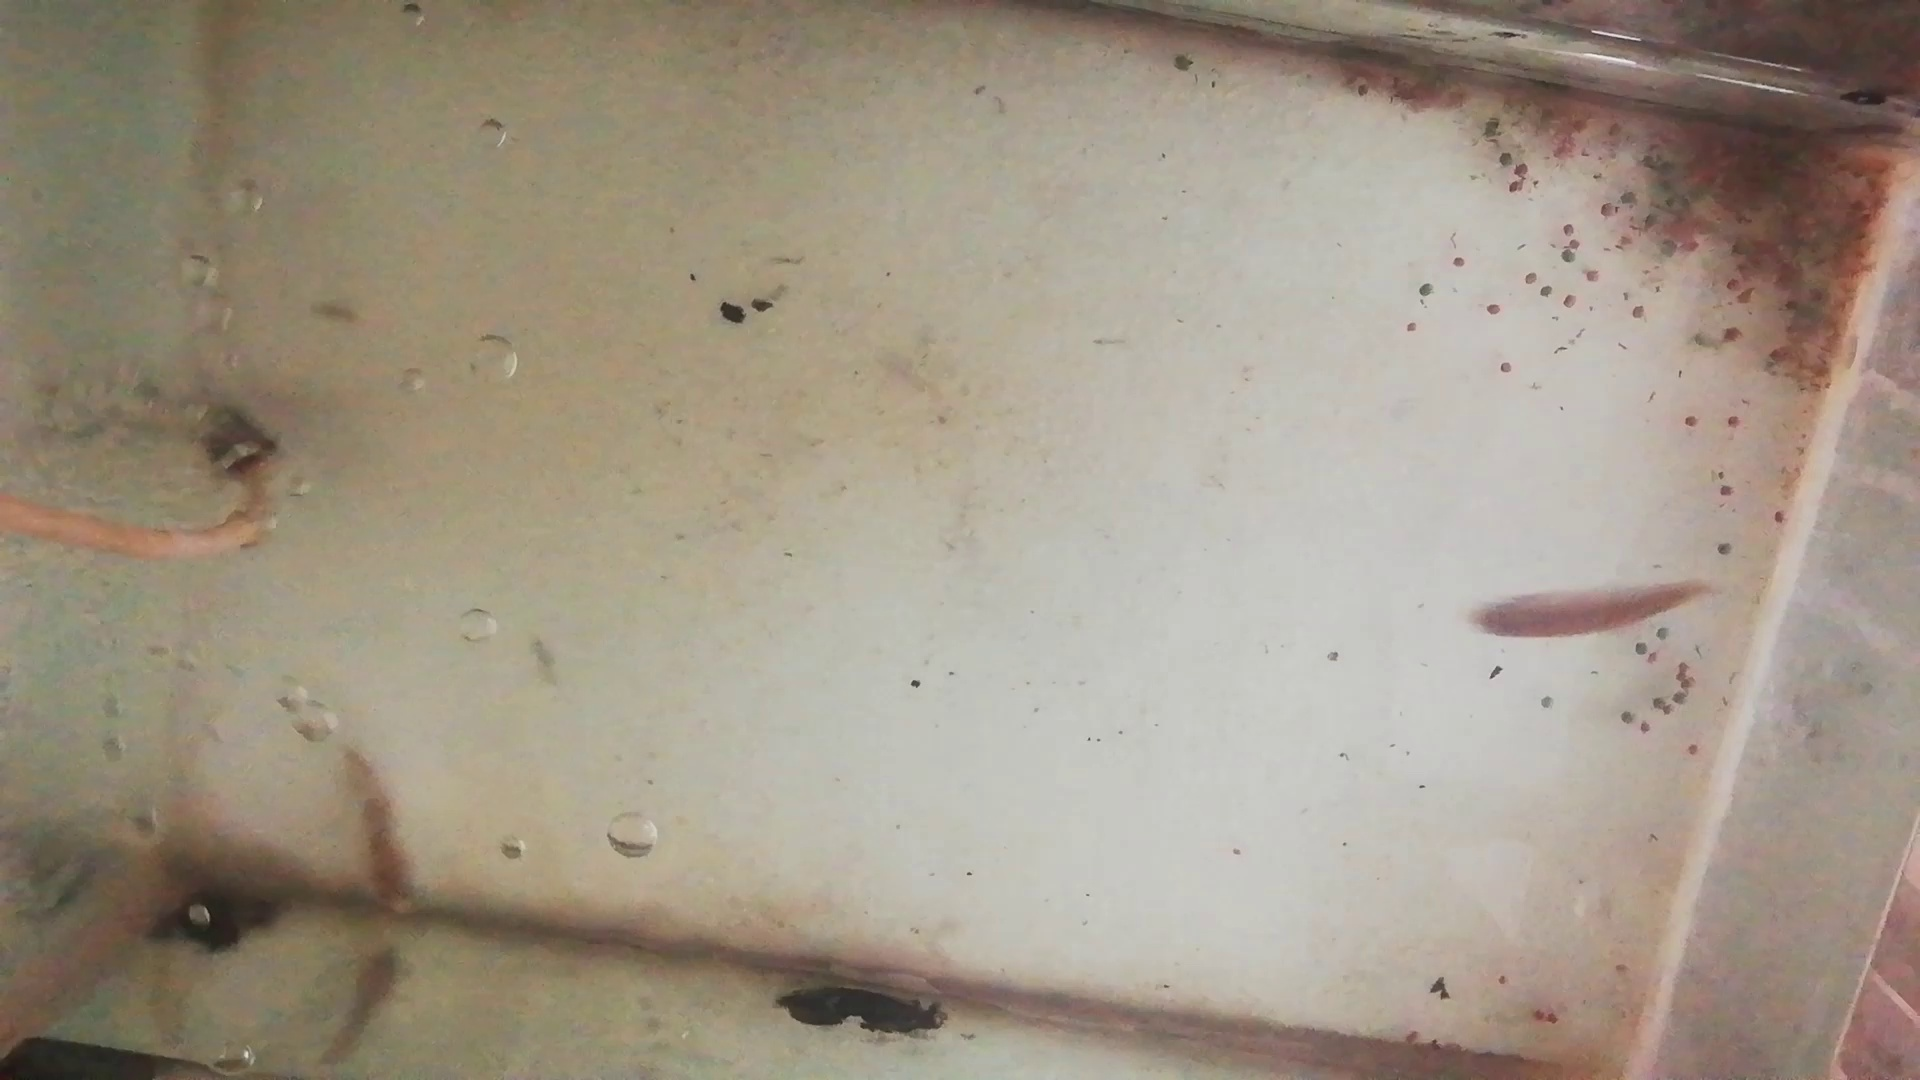fish: (334, 744, 419, 918), (1468, 576, 1693, 642)
